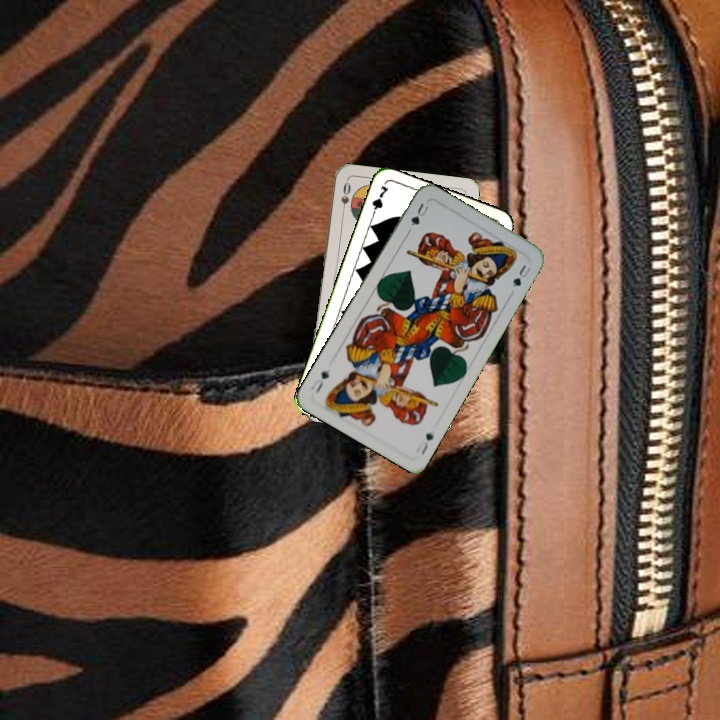G7: (367, 181, 391, 221)
GU: (407, 199, 431, 228), (412, 429, 436, 457)
SO: (337, 178, 354, 219)
